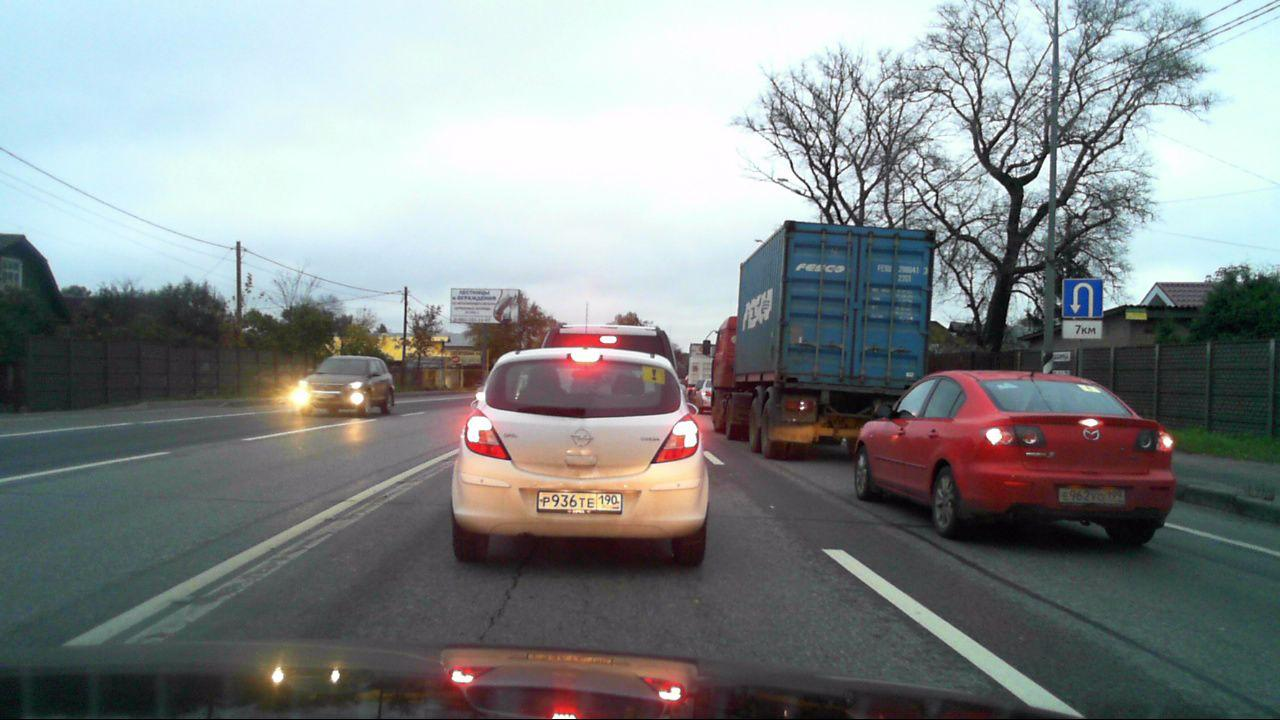6_3_1: (1063, 278, 1103, 318)
8_1_1: (1063, 320, 1101, 338)
